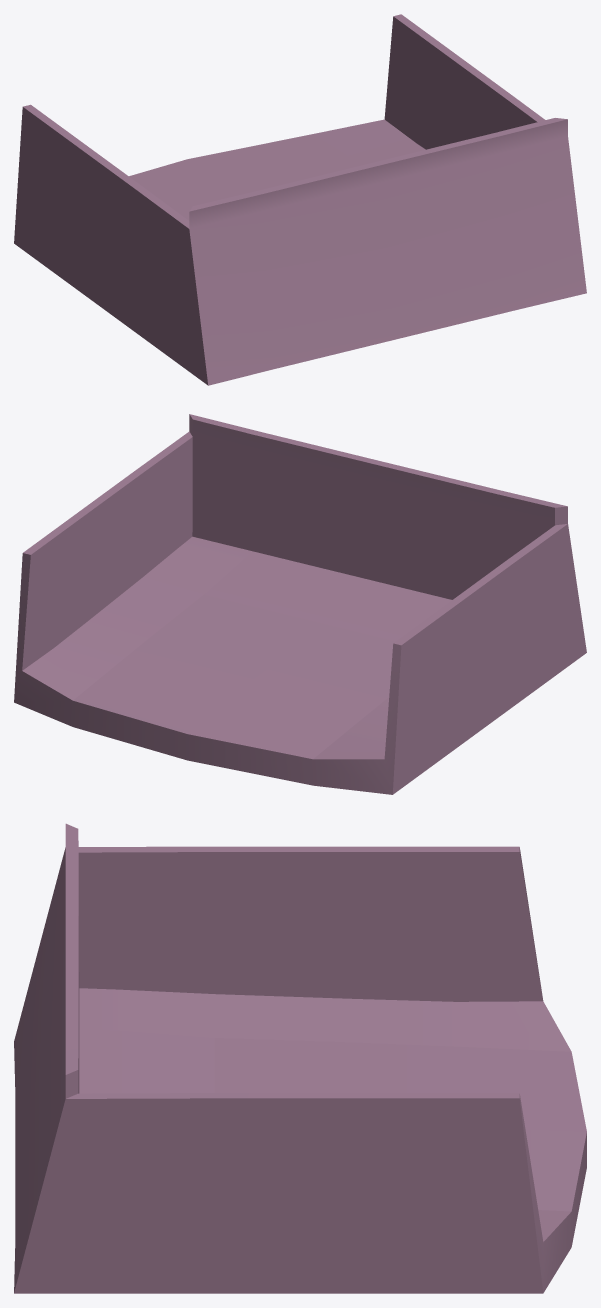
Rendered from Car_Boot.fbx.
The picture shows the model from 3 angles, top to bottom: view 1: azimuth 30°, elevation 25°; view 2: azimuth 150°, elevation 25°; view 3: azimuth 270°, elevation 25°; orthographic projection. The views are drawn at different scales.
Parts seen in each view (by area): view 1: Car_Boot; view 2: Car_Boot; view 3: Car_Boot.
Boxes of the visible parts, <box> form: Car_Boot: <box>14,14,586,385</box>; Car_Boot: <box>14,414,586,794</box>; Car_Boot: <box>14,823,586,1293</box>.
Bounding box in the file's own units: 129 × 52.23 × 124.
